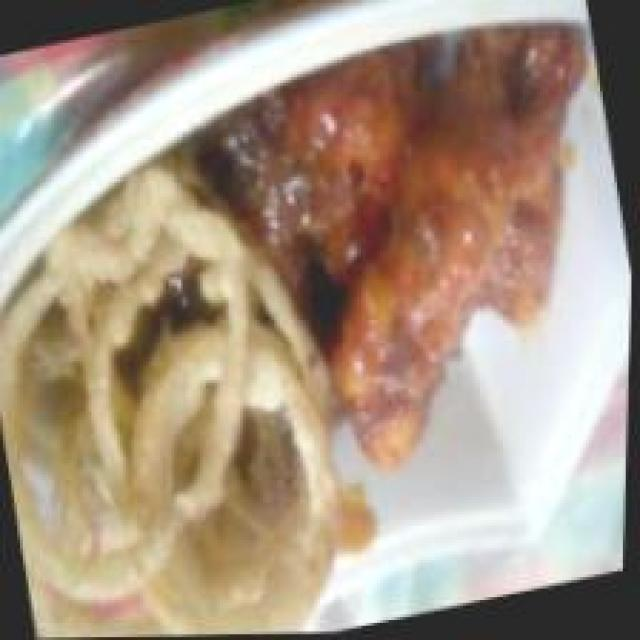Chicken Wings: (208, 5, 640, 500)
Onion Rings: (0, 125, 420, 640)
